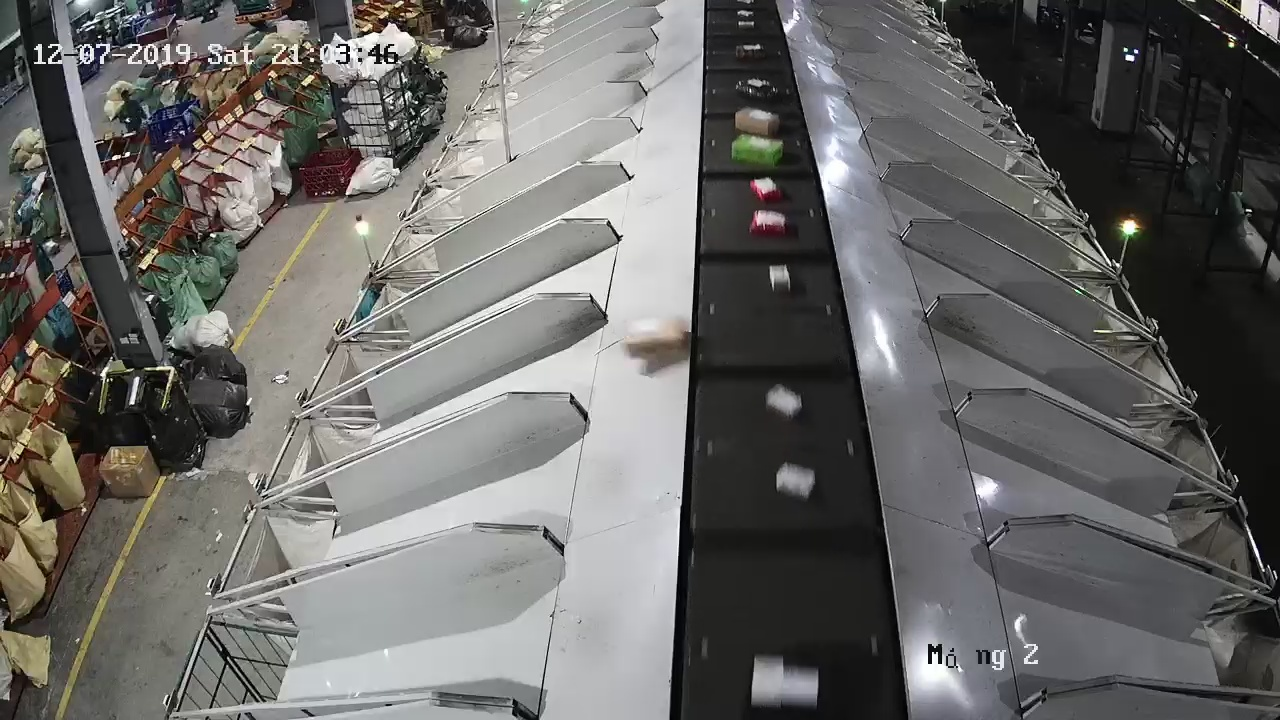parcel: (620, 314, 690, 360)
